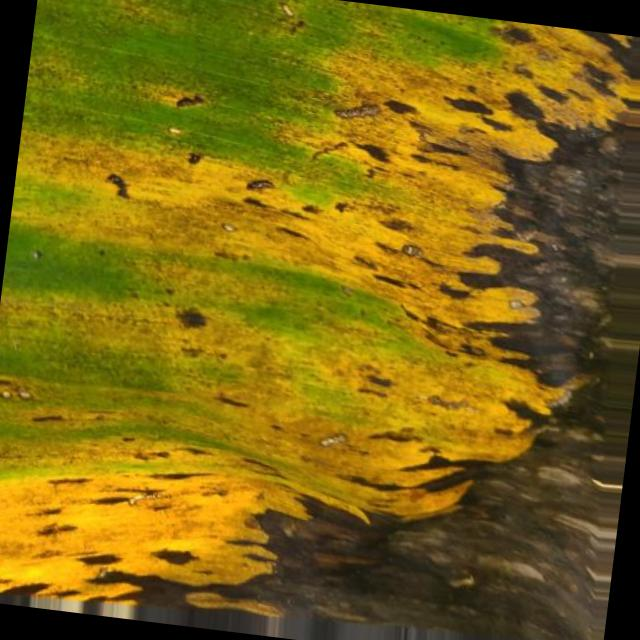Banana_Black_Sigatoka: (0, 312, 547, 640), (170, 0, 640, 355)
